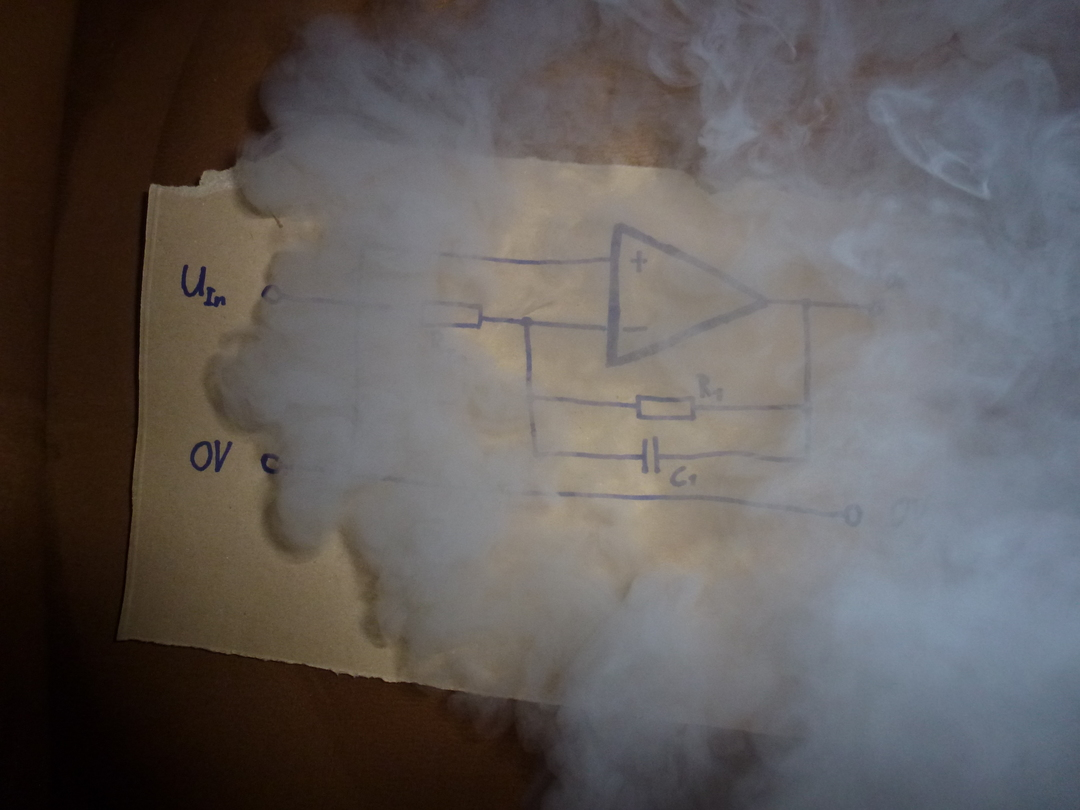capacitor.unpolarized: (638, 435, 664, 475)
crossover: (349, 295, 366, 313)
junction: (357, 238, 374, 257), (797, 399, 817, 415), (341, 464, 359, 481), (797, 296, 813, 311), (798, 450, 813, 465), (519, 315, 534, 329), (522, 390, 536, 403), (530, 448, 541, 460)
operational_amplifier: (605, 220, 768, 366)
resistor: (416, 297, 486, 331), (633, 392, 697, 424)
terminal: (258, 451, 286, 477), (260, 282, 287, 307), (841, 501, 864, 529), (864, 297, 887, 319)
text: (854, 244, 917, 293), (179, 262, 228, 309), (887, 493, 932, 531), (188, 438, 233, 474), (425, 329, 468, 365), (694, 370, 726, 403), (668, 464, 698, 490)
